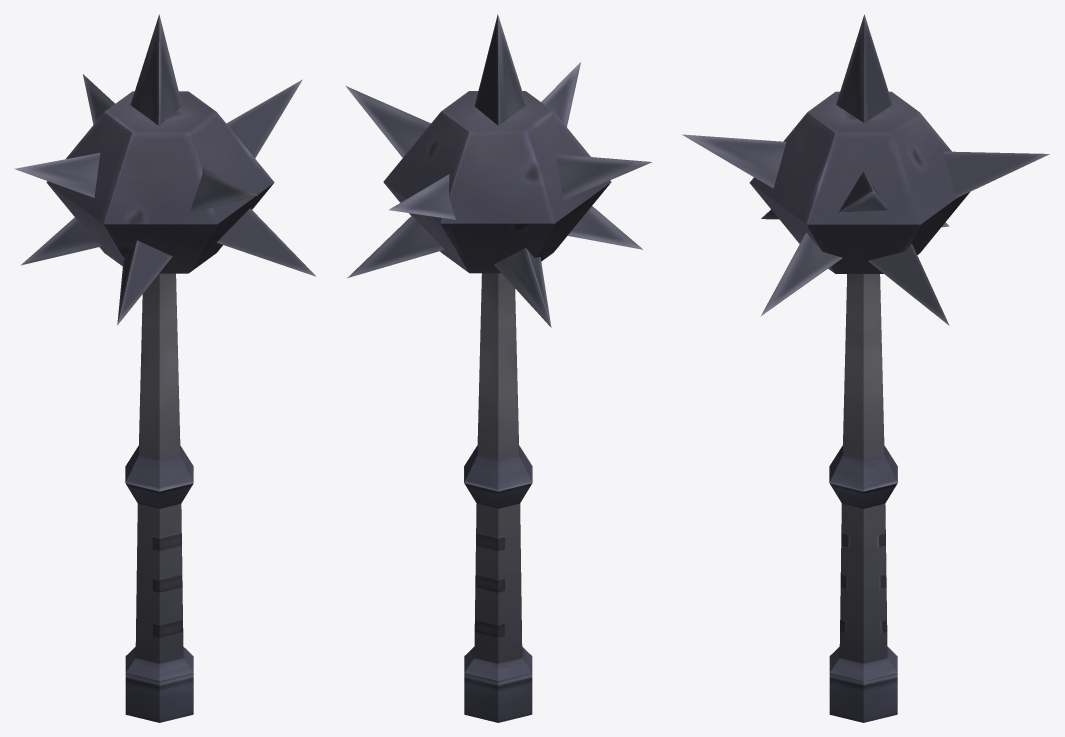
Rendered from mace_lvl_02.fbx.
3 views of the same model, side by side, from view 1: azimuth 30°, elevation 25°; view 2: azimuth 150°, elevation 25°; view 3: azimuth 270°, elevation 25° (orthographic).
Parts seen in each view (by area): view 1: mace_lvl_02; view 2: mace_lvl_02; view 3: mace_lvl_02.
Boxes of the visible parts, <box> form: mace_lvl_02: <box>14,14,316,722</box>; mace_lvl_02: <box>346,14,652,722</box>; mace_lvl_02: <box>682,14,1049,722</box>.
Bounding box in the file's own units: 2.96 × 6.57 × 3.17.
